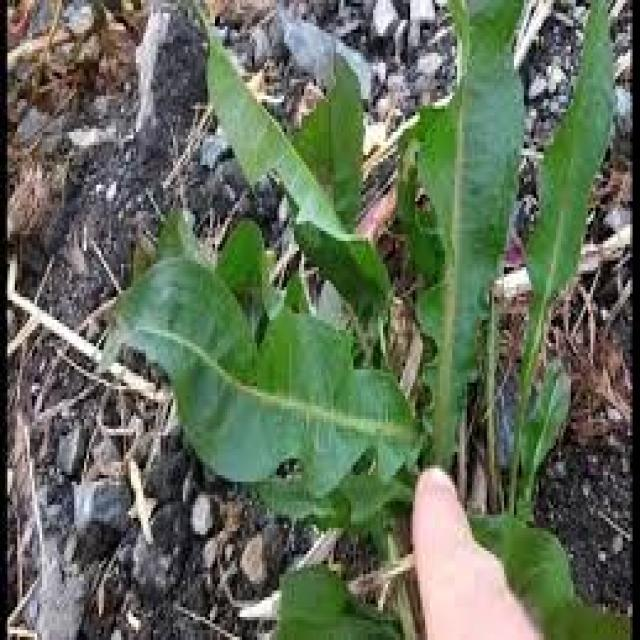organic waste: (165, 26, 640, 639)
